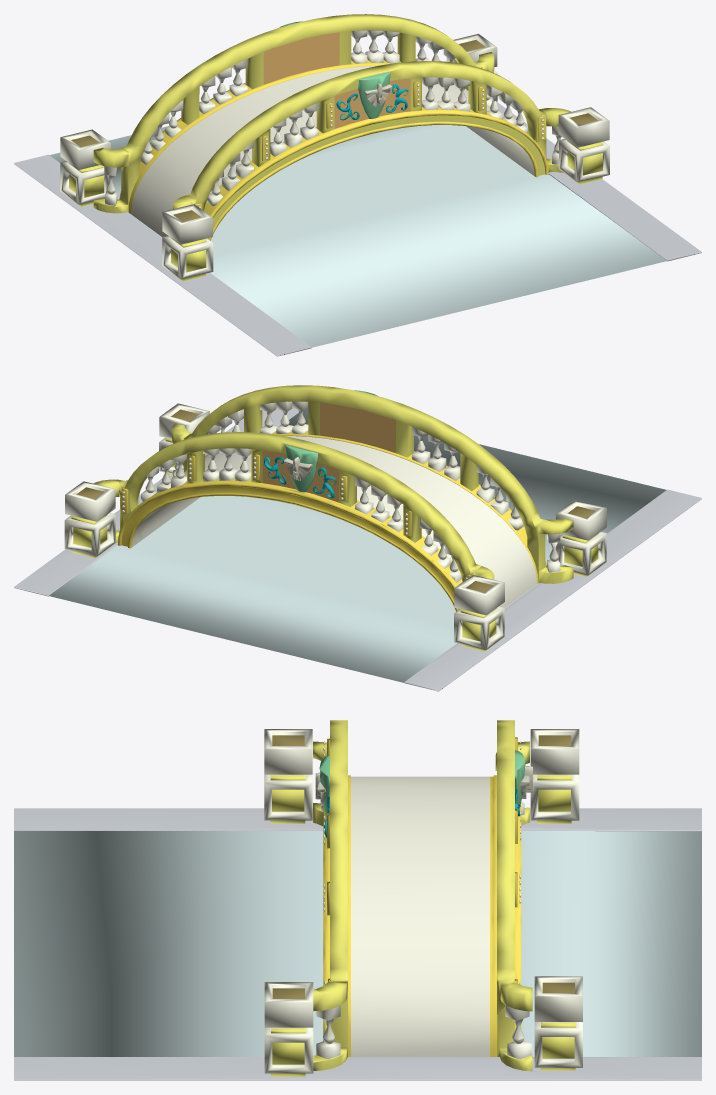
The model's file is ponte-carcavelos.glb.
The picture shows the model from 3 angles, top to bottom: view 1: azimuth 30°, elevation 25°; view 2: azimuth 150°, elevation 25°; view 3: azimuth 270°, elevation 25°; orthographic projection. The views are drawn at different scales.
Visible parts, largest first — view 1: offset; view 2: offset; view 3: offset.
Part boxes in pixels (x1,y1,x2,y2): offset: [14, 14, 701, 356]; offset: [14, 385, 701, 691]; offset: [14, 720, 701, 1080].
Bounding box in the file's own units: 186 × 59.01 × 198.
1 material, 1 textured.
